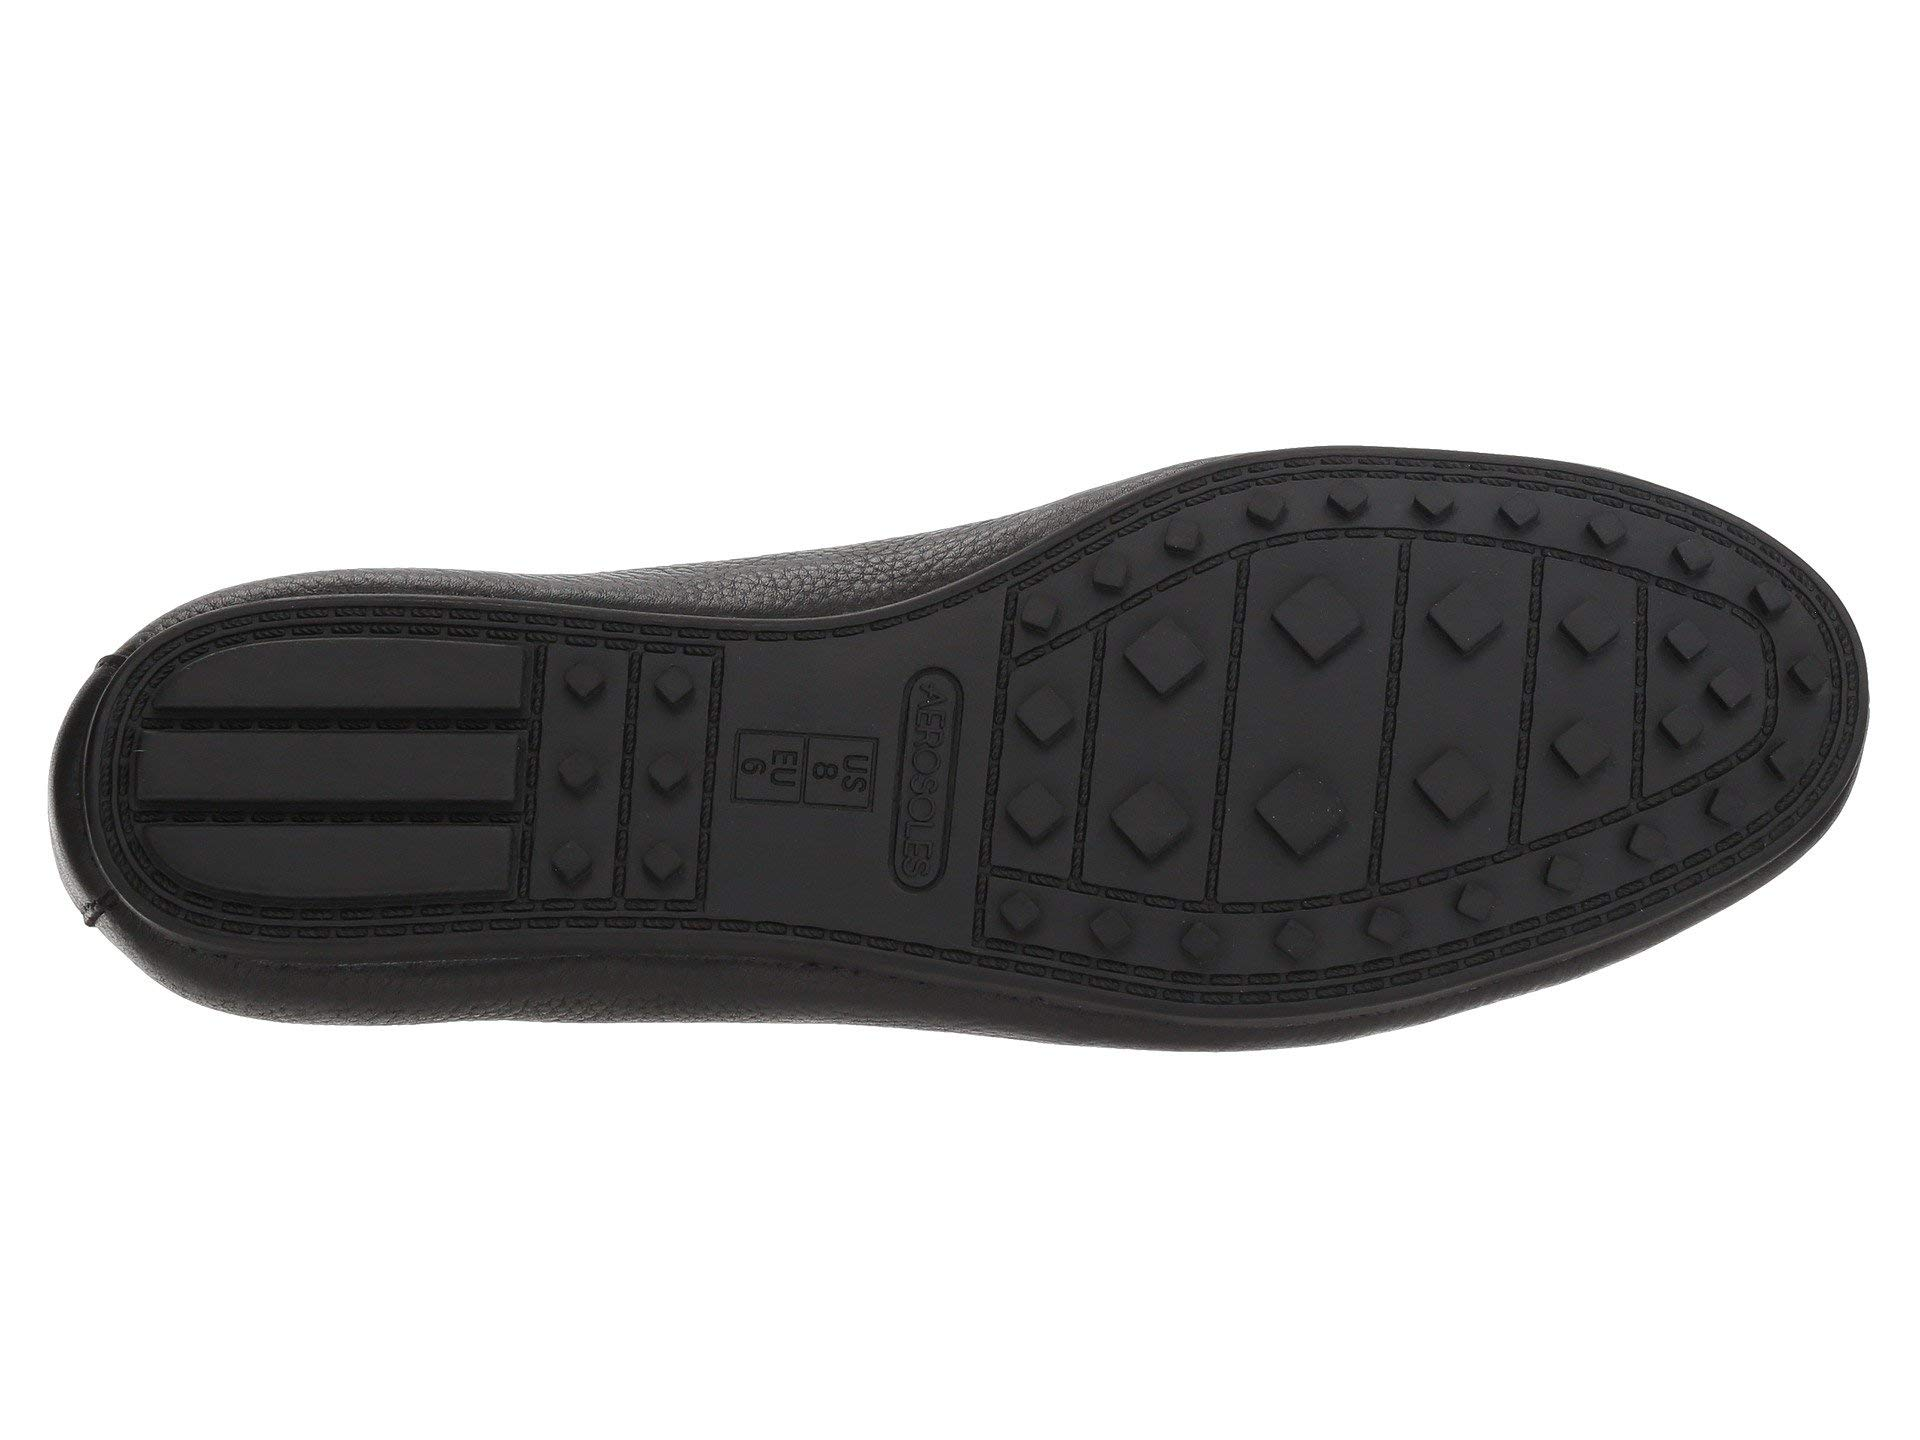circle: (709, 678, 1008, 908)
quad: (1095, 511, 1500, 959), (709, 678, 1008, 908)
text: (709, 678, 1008, 908)
